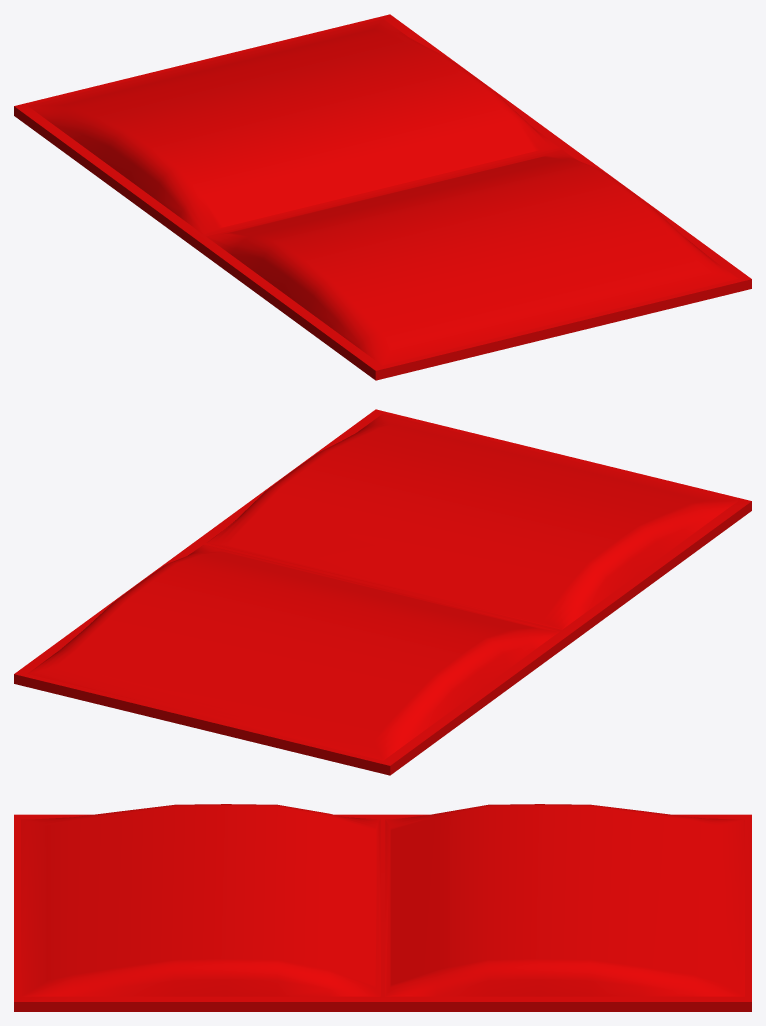
File: Livre_ouvert.fbx
3 renders of one model, top to bottom at view 1: azimuth 30°, elevation 25°; view 2: azimuth 150°, elevation 25°; view 3: azimuth 270°, elevation 25°, orthographic.
Visible parts, largest first — view 1: Livre_ouvert; view 2: Livre_ouvert; view 3: Livre_ouvert.
Boxes of the visible parts, left/top/right/bottom form: Livre_ouvert: left=14, top=14, right=751, bottom=380; Livre_ouvert: left=14, top=409, right=751, bottom=775; Livre_ouvert: left=14, top=804, right=751, bottom=1011.
Bounding box in the file's own units: 0.2864 × 0.0255 × 0.477.
